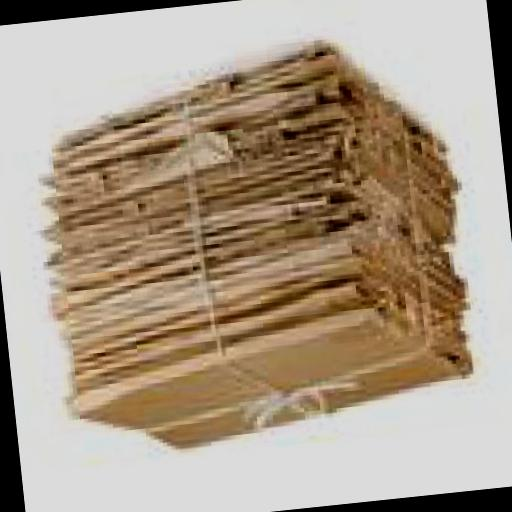cardboard: (32, 40, 478, 465), (64, 300, 470, 460)
